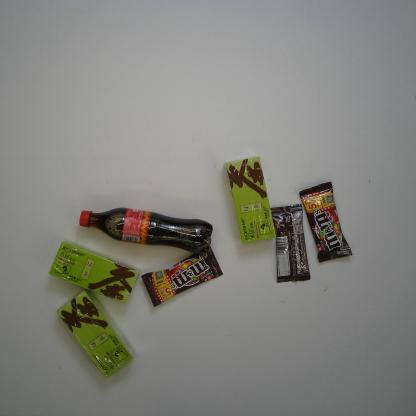Chocolate: (140, 245, 224, 309), (298, 180, 354, 264), (270, 203, 311, 284)
Drink: (78, 207, 214, 255)
Instant Drink: (56, 289, 135, 379), (48, 241, 140, 304), (225, 156, 277, 244)
